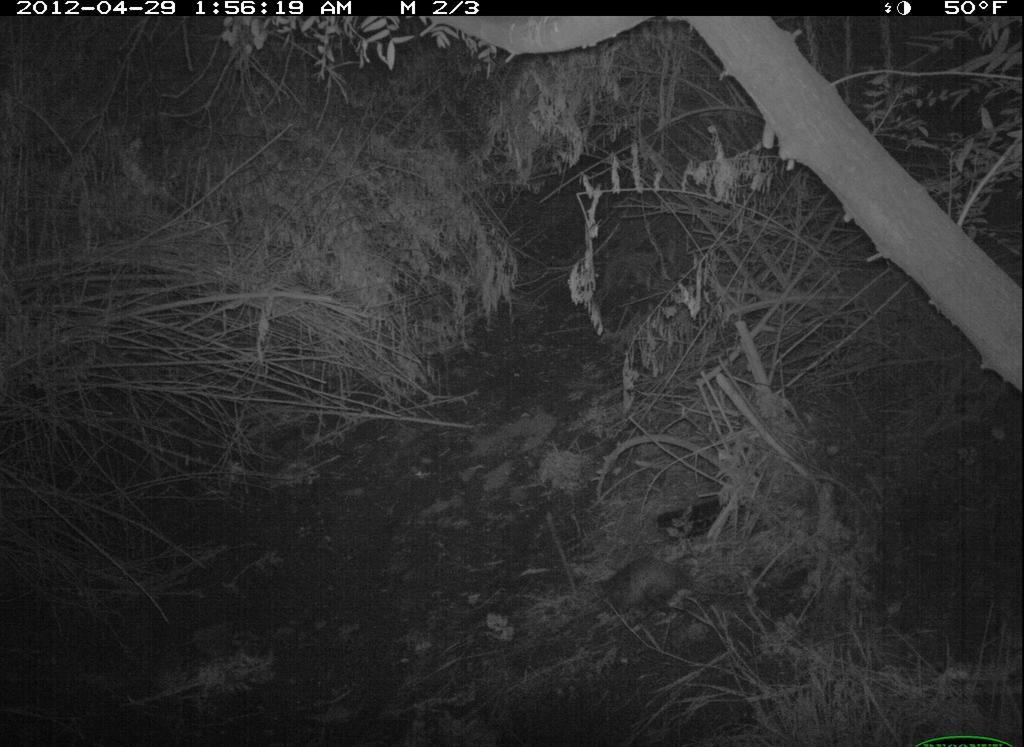opossum: (573, 543, 728, 644)
